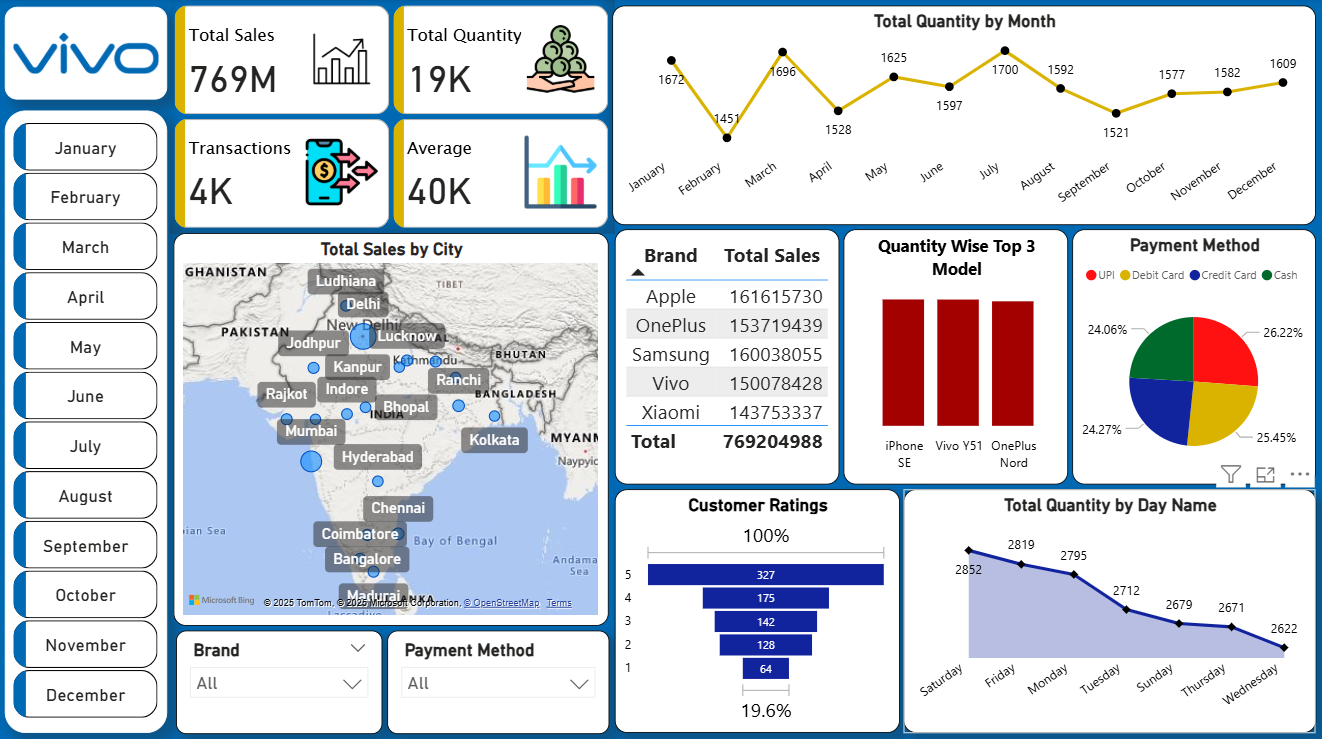

This screenshot's page, from the dashboard's own definition file:
{"tool":"powerbi","page":{"name":"Page 1","canvas":[1280,720],"ordinal":0},"visuals":[{"type":"shape","box":[8.4,8.4,156.8,89.3],"z":0},{"type":"image","box":[12.1,21.7,149.6,62.7],"z":1000},{"type":"shape","box":[8.4,108.6,156.8,600.8],"z":2000},{"type":"advancedSlicerVisual","fields":{"Values":["Sales Data.Date.Variation.Date Hierarchy.Month"]},"box":[12.1,115.8,149.6,593.6],"z":3000},{"type":"cardVisual","fields":{"Data":["Sales Data.Total Sales","Sales Data.Total Quantity","Sales Data.Transactions","Sales Data.Average"]},"box":[167.7,2.4,429.5,225.6],"z":4000},{"type":"map","fields":{"Category":["Sales Data.City"],"Size":["Sales Data.Total Sales"]},"box":[171.3,226.8,419.8,378.8],"z":5000},{"type":"slicer","fields":{"Values":["Sales Data.Brand"]},"box":[173.7,610.5,199.3,100.1],"z":6000},{"type":"slicer","fields":{"Values":["Sales Data.Payment Method"]},"box":[377.9,610.5,214.5,100.1],"z":7000},{"type":"lineChart","fields":{"Y":["Sales Data.Total Quantity"],"Category":["Sales Data.Date.Variation.Date Hierarchy.Month","Sales Data.Date.Variation.Date Hierarchy.Day"]},"box":[594.8,7.2,679.2,212.3],"z":8000},{"type":"tableEx","fields":{"Values":["Sales Data.Brand","Sales Data.Total Sales"]},"box":[597.2,223.2,217.2,246.1],"z":9000},{"type":"clusteredColumnChart","title":"Quantity Wise Top 3 Model","fields":{"Category":["Sales Data.Mobile Model"],"Y":["Sales Data.Total Quantity"]},"box":[818,223.2,217.2,246.1],"z":10000},{"type":"pieChart","title":"Payment Method","fields":{"Category":["Sales Data.Payment Method"],"Y":["Sales Data.Total Sales"]},"box":[1038.7,223.2,235.3,246.1],"z":11000},{"type":"funnel","title":"Customer Ratings","fields":{"Category":["Sales Data.Customer Ratings"],"Y":["CountNonNull(Sales Data.Customer Ratings)"]},"box":[597.2,474.1,275.1,235.3],"z":12000},{"type":"areaChart","fields":{"Category":["Sales Data.Day Name"],"Y":["Sales Data.Total Quantity"]},"box":[875.9,474.1,398.1,235.3],"z":13000}]}

Visuals, with their boxes in screenshot pixels (x1, y1, x2, y2), scaled from the page's 1280x720 canvas onto the 1322x739 screenshot:
shape: rect(9, 9, 171, 100)
image: rect(12, 22, 167, 87)
shape: rect(9, 111, 171, 728)
advancedSlicerVisual - Sales Data.Date.Variation.Date Hierarchy.Month: rect(12, 119, 167, 728)
cardVisual - Sales Data.Total Sales x Sales Data.Total Quantity: rect(173, 2, 617, 234)
map - Sales Data.City x Sales Data.Total Sales: rect(177, 233, 610, 622)
slicer - Sales Data.Brand: rect(179, 627, 385, 729)
slicer - Sales Data.Payment Method: rect(390, 627, 612, 729)
lineChart - Sales Data.Total Quantity x Sales Data.Date.Variation.Date Hierarchy.Month: rect(614, 7, 1316, 225)
tableEx - Sales Data.Brand x Sales Data.Total Sales: rect(617, 229, 841, 482)
"Quantity Wise Top 3 Model" clusteredColumnChart: rect(845, 229, 1069, 482)
"Payment Method" pieChart: rect(1073, 229, 1316, 482)
"Customer Ratings" funnel: rect(617, 487, 901, 728)
areaChart - Sales Data.Day Name x Sales Data.Total Quantity: rect(905, 487, 1316, 728)
